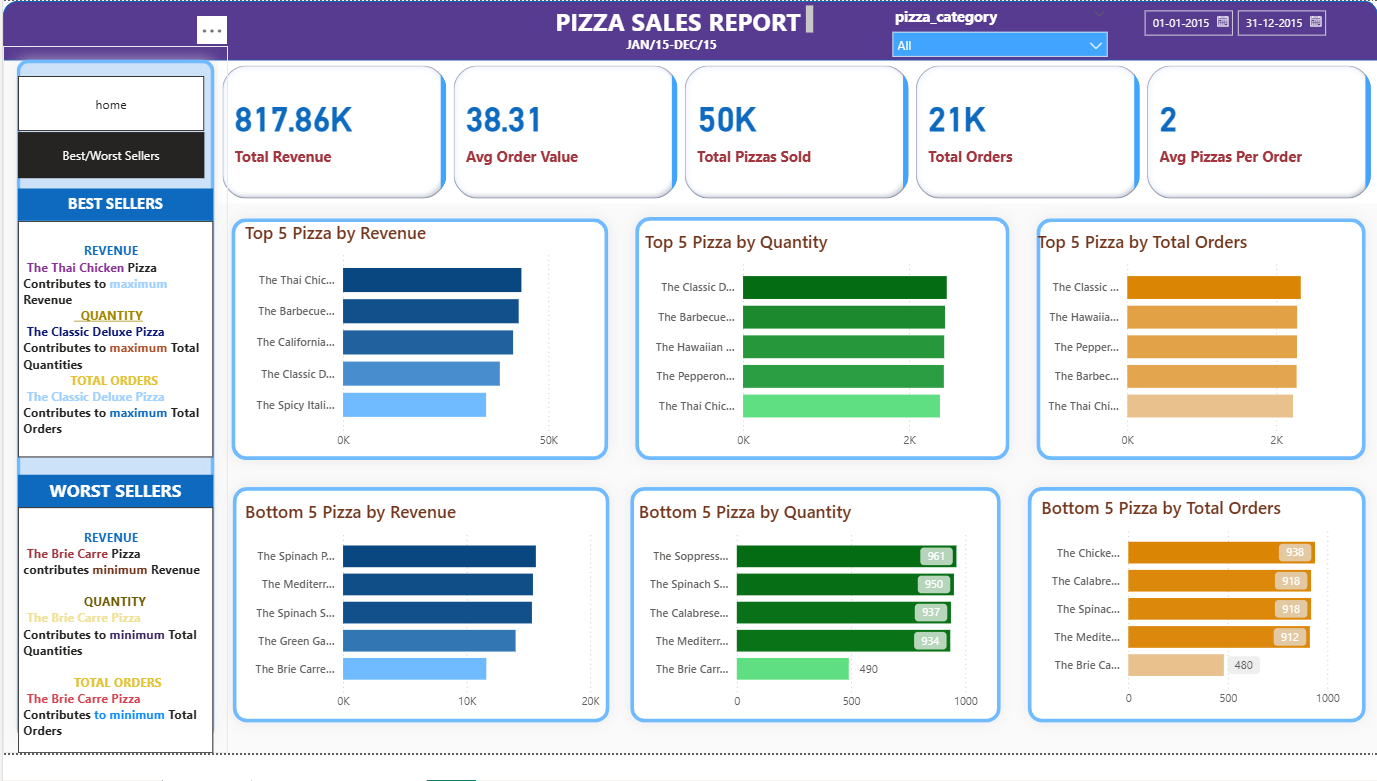

The dashboard page shown, as its layout file describes it:
{"tool":"powerbi","page":{"name":"Best/Worst Sellers","canvas":[1500,820],"ordinal":1},"visuals":[{"type":"cardVisual","fields":{"Data":["pizza_sales.Total Revenue","pizza_sales.Avg Order Value","pizza_sales.Total Pizzas Sold","pizza_sales.Total Orders","pizza_sales.Avg Pizzas Per Order"]},"box":[234.4,65.4,1265.9,155.3],"z":0},{"type":"shape","box":[0,0,1500,65],"z":1000},{"type":"textbox","box":[596.8,0,291.6,42.2],"z":2000},{"type":"textbox","box":[674.5,32.7,118.6,32.7],"z":3000},{"type":"shape","box":[234.4,222.1,440.1,293],"z":4000},{"type":"shape","box":[0,49.1,245.3,771.3],"z":5000},{"type":"textbox","box":[16.4,204.4,212.6,35.4],"z":6000},{"type":"textbox","box":[16.7,239.5,212.5,257.5],"z":7000},{"type":"textbox","box":[16.4,516.4,212.6,35.4],"z":8000},{"type":"textbox","box":[16.7,552.4,212.5,267.8],"z":9000},{"type":"slicer","fields":{"Values":["pizza_sales.pizza_category"]},"box":[959.3,0,254.8,65.4],"z":10000},{"type":"slicer","fields":{"Values":["pizza_sales.order_date"]},"box":[1231.8,0,227.6,65.4],"z":11000},{"type":"shape","box":[674.5,220.7,437.4,294.3],"z":12000},{"type":"shape","box":[1111.9,222.1,388.4,293],"z":13000},{"type":"shape","box":[235.7,515.1,440.1,286.2],"z":14000},{"type":"shape","box":[669.1,515.1,433.3,286.2],"z":15000},{"type":"shape","box":[1102.4,515.1,397.9,286.2],"z":16000},{"type":"barChart","title":"Top 5 Pizza by Revenue","fields":{"Category":["pizza_sales.pizza_name"],"Y":["pizza_sales.Total Revenue"]},"box":[258.9,239.6,395.6,257.3],"z":17000},{"type":"barChart","title":"Bottom 5 Pizza by Revenue","fields":{"Category":["pizza_sales.pizza_name"],"Y":["pizza_sales.Total Revenue"]},"box":[258.9,543.7,396.5,238.5],"z":18000},{"type":"barChart","title":"Top 5 Pizza by Quantity","fields":{"Category":["pizza_sales.pizza_name"],"Y":["pizza_sales.Total Pizzas Sold"]},"box":[694.7,249.3,395.6,247.6],"z":19000},{"type":"barChart","title":"Bottom 5 Pizza by Quantity","fields":{"Category":["pizza_sales.pizza_name"],"Y":["pizza_sales.Total Pizzas Sold"]},"box":[688.1,543.7,395.2,238.5],"z":20000},{"type":"barChart","title":"Top 5 Pizza by Total Orders","fields":{"Category":["pizza_sales.pizza_name"],"Y":["pizza_sales.Total Orders"]},"box":[1122.4,249.3,358.6,247.6],"z":21000},{"type":"barChart","title":"Bottom 5 Pizza by Total Orders","fields":{"Category":["pizza_sales.pizza_name"],"Y":["pizza_sales.Total Orders"]},"box":[1126.9,539.6,347.5,238.5],"z":22000},{"type":"pageNavigator","box":[16.7,82.4,203.5,60.5],"z":23000},{"type":"pageNavigator","box":[16.7,142.9,203.5,50.2],"z":24000}]}

Visuals, with their boxes on the page's 1500x820 design canvas (x1, y1, x2, y2). These are canvas units, not pixel positions in the 1377x781 screenshot, which may show the page scaled, cropped or inside an application window:
cardVisual - pizza_sales.Total Revenue x pizza_sales.Avg Order Value: [234, 65, 1500, 221]
shape: [0, 0, 1500, 65]
textbox: [597, 0, 888, 42]
textbox: [674, 33, 793, 65]
shape: [234, 222, 674, 515]
shape: [0, 49, 245, 820]
textbox: [16, 204, 229, 240]
textbox: [17, 240, 229, 497]
textbox: [16, 516, 229, 552]
textbox: [17, 552, 229, 820]
slicer - pizza_sales.pizza_category: [959, 0, 1214, 65]
slicer - pizza_sales.order_date: [1232, 0, 1459, 65]
shape: [674, 221, 1112, 515]
shape: [1112, 222, 1500, 515]
shape: [236, 515, 676, 801]
shape: [669, 515, 1102, 801]
shape: [1102, 515, 1500, 801]
"Top 5 Pizza by Revenue" barChart: [259, 240, 654, 497]
"Bottom 5 Pizza by Revenue" barChart: [259, 544, 655, 782]
"Top 5 Pizza by Quantity" barChart: [695, 249, 1090, 497]
"Bottom 5 Pizza by Quantity" barChart: [688, 544, 1083, 782]
"Top 5 Pizza by Total Orders" barChart: [1122, 249, 1481, 497]
"Bottom 5 Pizza by Total Orders" barChart: [1127, 540, 1474, 778]
pageNavigator: [17, 82, 220, 143]
pageNavigator: [17, 143, 220, 193]
